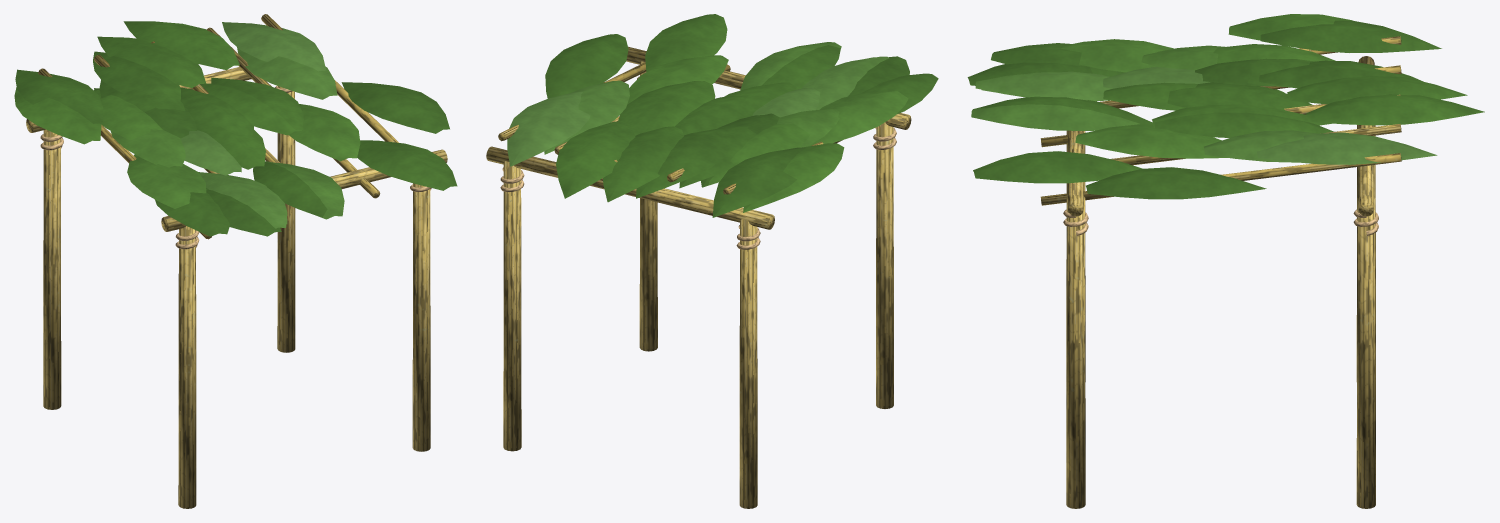
File: shelter.glb
The picture shows the model from 3 angles, left to right: view 1: azimuth 30°, elevation 25°; view 2: azimuth 150°, elevation 25°; view 3: azimuth 270°, elevation 25°; orthographic projection. The views are drawn at different scales.
Visible parts, largest first — view 1: roof_leaf, Shelter; view 2: roof_leaf, Shelter; view 3: roof_leaf, Shelter.
Boxes of the visible parts, x1,y1,x2,y2 form: roof_leaf: [14, 21, 457, 236]; Shelter: [26, 14, 447, 508]; roof_leaf: [507, 14, 938, 217]; Shelter: [486, 46, 911, 508]; roof_leaf: [967, 14, 1484, 199]; Shelter: [1040, 36, 1401, 508].
Size of the model in its own units: 3 by 2.84 by 3.75.
Materials: 1 (1 with a texture image).
